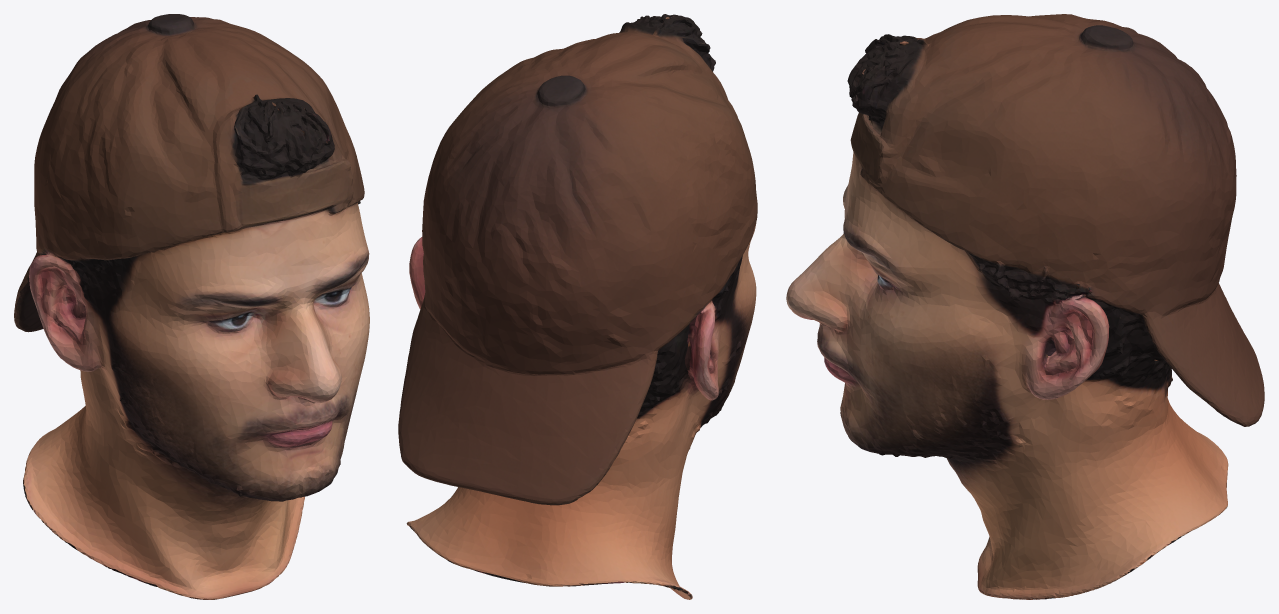
File: LUIS_HEAD_COLOR.glb
The picture shows the model from 3 angles, left to right: view 1: azimuth 30°, elevation 25°; view 2: azimuth 150°, elevation 25°; view 3: azimuth 270°, elevation 25°; orthographic projection. The views are drawn at different scales.
Parts seen in each view (by area): view 1: geometry_0; view 2: geometry_0; view 3: geometry_0.
Boxes of the visible parts, left/top/right/bottom form: geometry_0: left=14, top=14, right=369, bottom=599; geometry_0: left=398, top=14, right=757, bottom=599; geometry_0: left=786, top=14, right=1264, bottom=599.
Bounding box in the file's own units: 1.15 × 1.99 × 1.57.
1 material, 1 textured.
